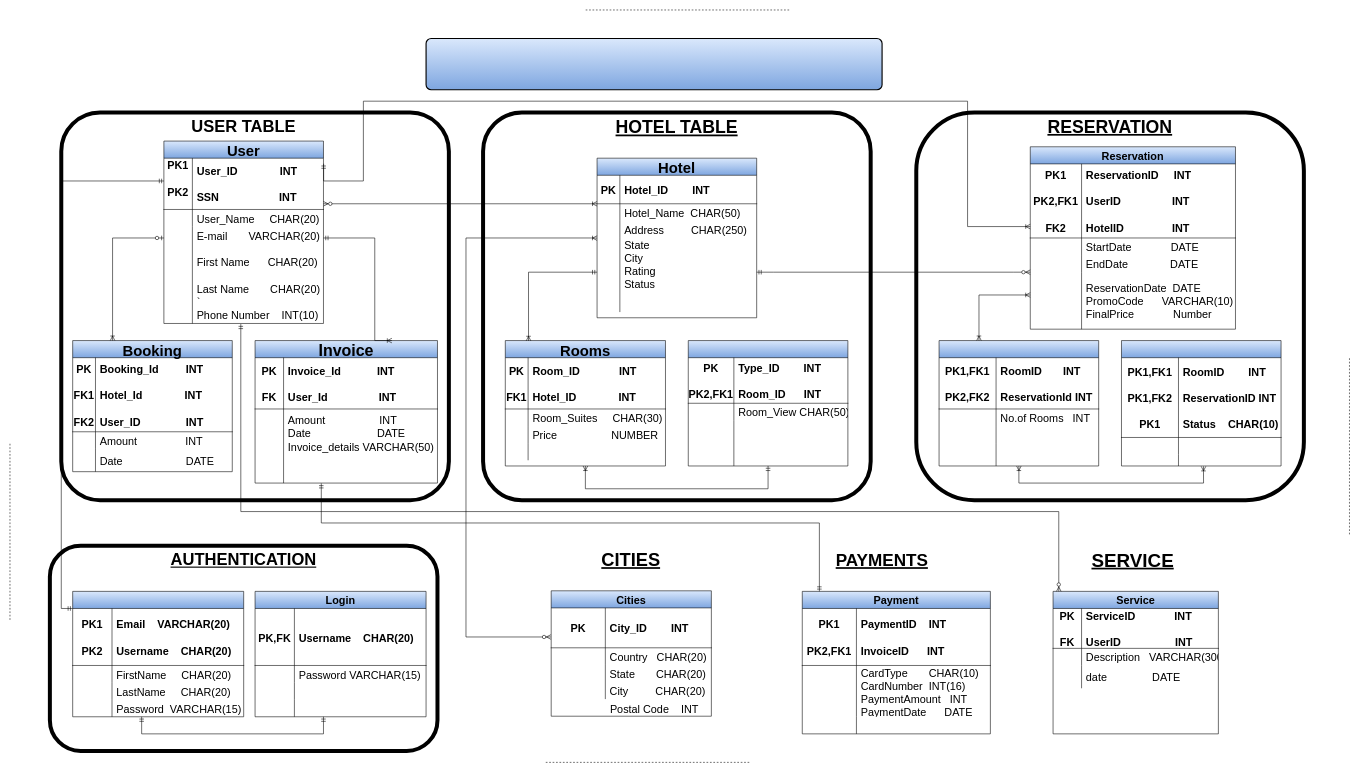
The diagram is 1360 pixels wide and 773 high, and some of its shapes have lost their labels. The box of each missing label's shape, as (x1, y1, x2, y2) in pixels:
HOTAL MANAGEMENT SYSTEM ERD DIAGRAM: (425, 38, 882, 90)
ReservationStatus: (1121, 340, 1281, 466)
RoomsReserved: (939, 340, 1099, 466)
RoomType: (688, 340, 848, 466)
Signup: (72, 591, 244, 717)
